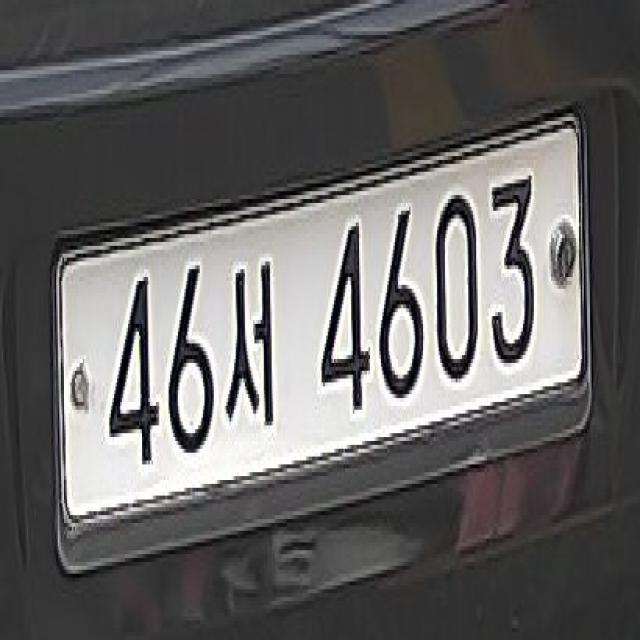0: (432, 196, 482, 404)
3: (487, 175, 541, 364)
4: (314, 214, 374, 438), (103, 271, 165, 487)
6: (167, 256, 218, 486), (377, 204, 426, 419)
license_plate: (39, 55, 608, 584)
seo: (224, 255, 288, 456)
